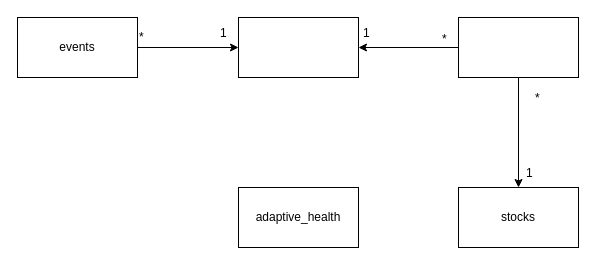
The diagram is 596 pixels wide and 265 high, and some of its shapes have lost their labels. Here are the shapes that lost their labels. From the top down, the centre of each, then its label:
At point 298,47: "users".
At point 518,47: "stock_transactions".
